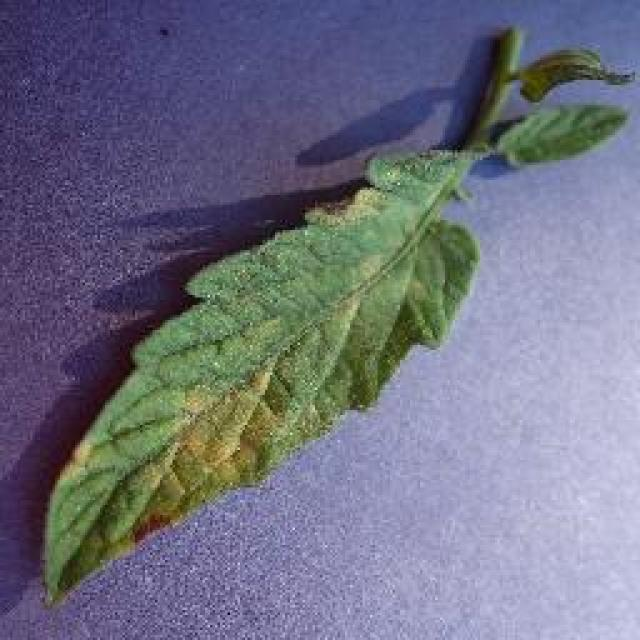Tomato___Leaf_Mold: (45, 28, 632, 600)
